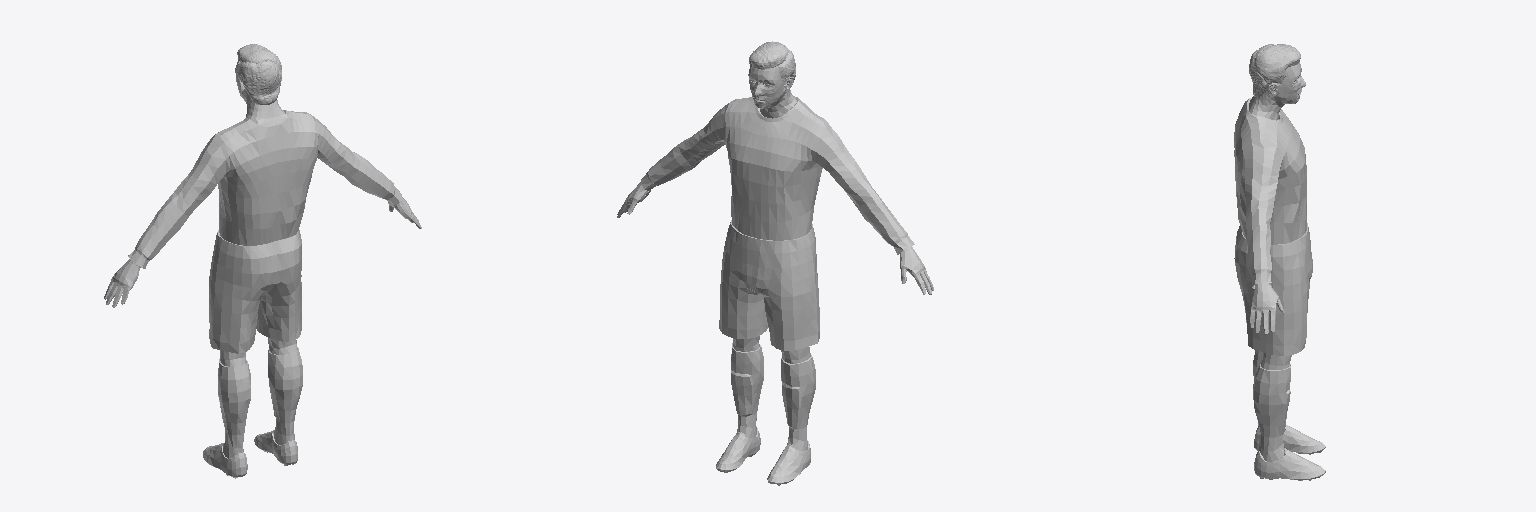
Rendered from long-tucked.obj.
3 views of the same model, side by side, from view 1: azimuth 30°, elevation 25°; view 2: azimuth 150°, elevation 25°; view 3: azimuth 270°, elevation 25° (orthographic).
Parts seen in each view (by area): view 1: long-tucked, tucked, base_socks, hair_short_04.001, base_boots.001, base_hands, base_knees, base_head.002; view 2: long-tucked, tucked, base_socks, base_boots.001, base_head.002, base_hands, hair_short_04.001, base_knees; view 3: long-tucked, tucked, base_socks, base_boots.001, hair_short_04.001, base_head.002, base_hands.
Part boxes in pixels (left/top/right/bottom): long-tucked: left=128, top=110, right=401, bottom=268; tucked: left=209, top=230, right=301, bottom=353; base_socks: left=218, top=347, right=302, bottom=458; hair_short_04.001: left=237, top=44, right=281, bottom=104; base_boots.001: left=203, top=430, right=297, bottom=478; base_hands: left=104, top=197, right=421, bottom=307; base_knees: left=220, top=338, right=297, bottom=366; base_head.002: left=235, top=60, right=284, bottom=119; long-tucked: left=641, top=96, right=914, bottom=254; tucked: left=719, top=220, right=819, bottom=350; base_socks: left=731, top=343, right=815, bottom=450; base_boots.001: left=716, top=426, right=810, bottom=485; base_head.002: left=748, top=64, right=796, bottom=118; base_hands: left=617, top=182, right=933, bottom=294; hair_short_04.001: left=749, top=41, right=795, bottom=81; base_knees: left=733, top=336, right=810, bottom=363; long-tucked: left=1234, top=98, right=1306, bottom=288; tucked: left=1234, top=223, right=1312, bottom=355; base_socks: left=1253, top=350, right=1290, bottom=461; base_boots.001: left=1254, top=425, right=1325, bottom=480; hair_short_04.001: left=1249, top=44, right=1300, bottom=97; base_head.002: left=1249, top=62, right=1305, bottom=119; base_hands: left=1250, top=282, right=1284, bottom=334.
Size of the model in its own units: 1.45 by 1.84 by 0.3669.